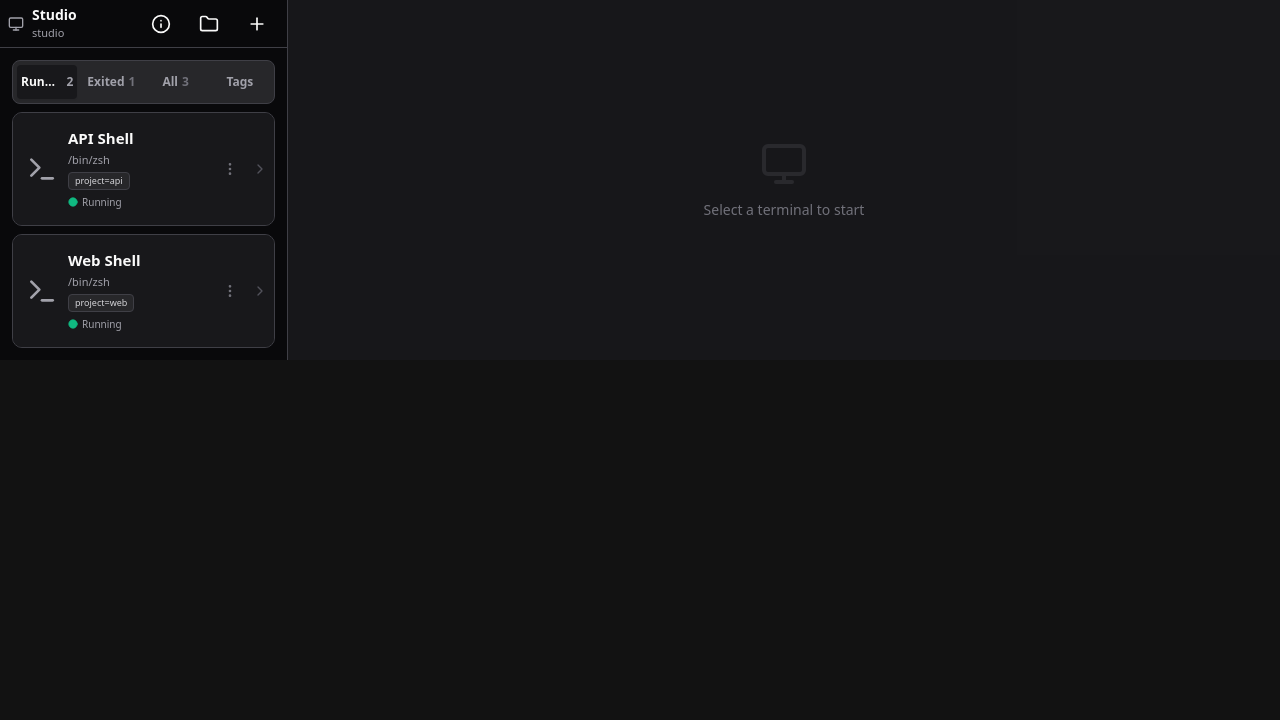
it: MachineWorkspace terminal creation › filters terminal inventory by lifecycle tab and public tag
Expected: the text "API Shell" is shown, [68, 128, 134, 148]
Expected: the text "Web Shell" is shown, [68, 250, 141, 270]
Click the button with test id "anytty-terminal-status-exited" at (111, 82), box [81, 65, 142, 99]
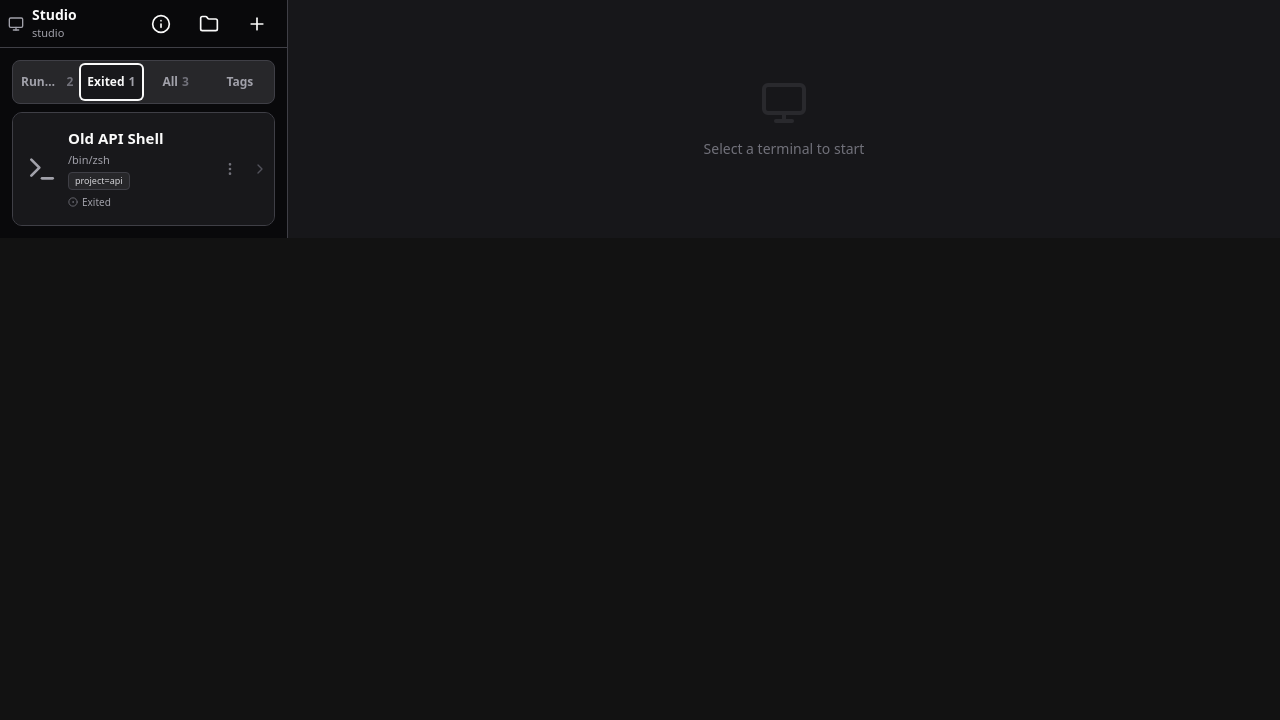
Expected: the text "Old API Shell" is shown, [68, 128, 164, 148]
Click the button with test id "anytty-terminal-status-all" at (176, 82), box [146, 65, 206, 99]
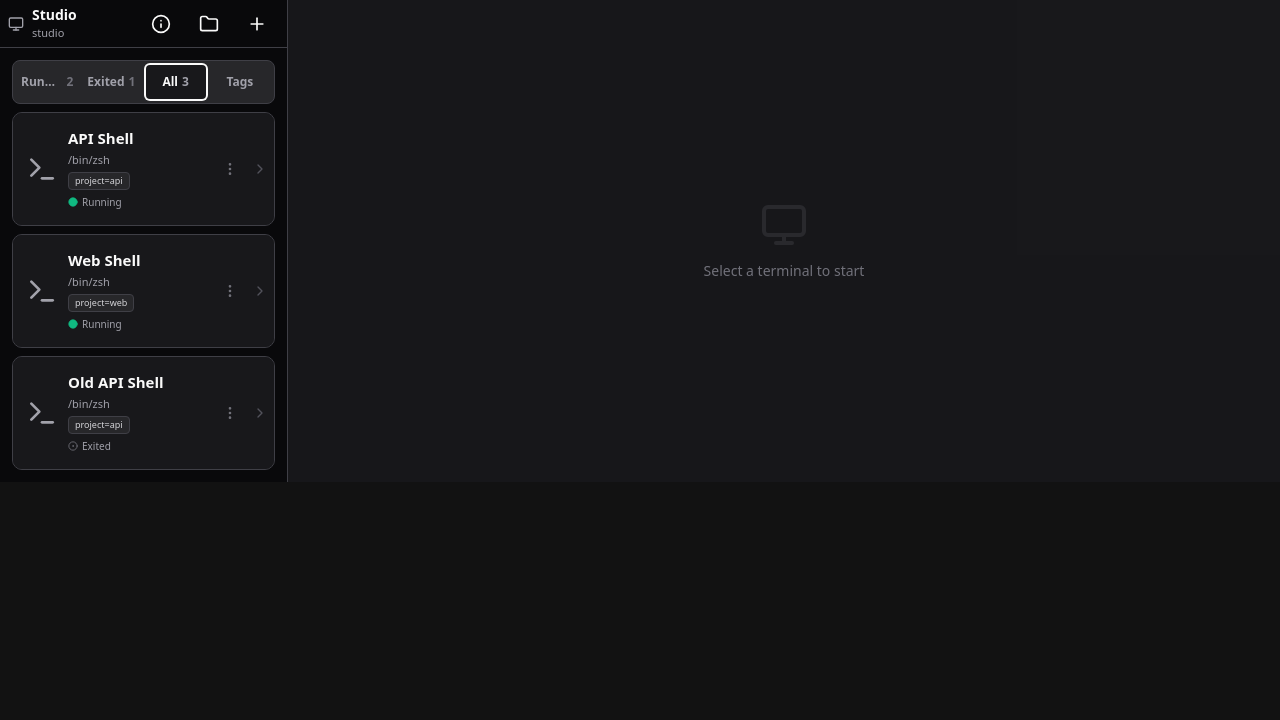
Click the button with test id "anytty-terminal-tag-filter" at (240, 82), box [210, 65, 270, 99]
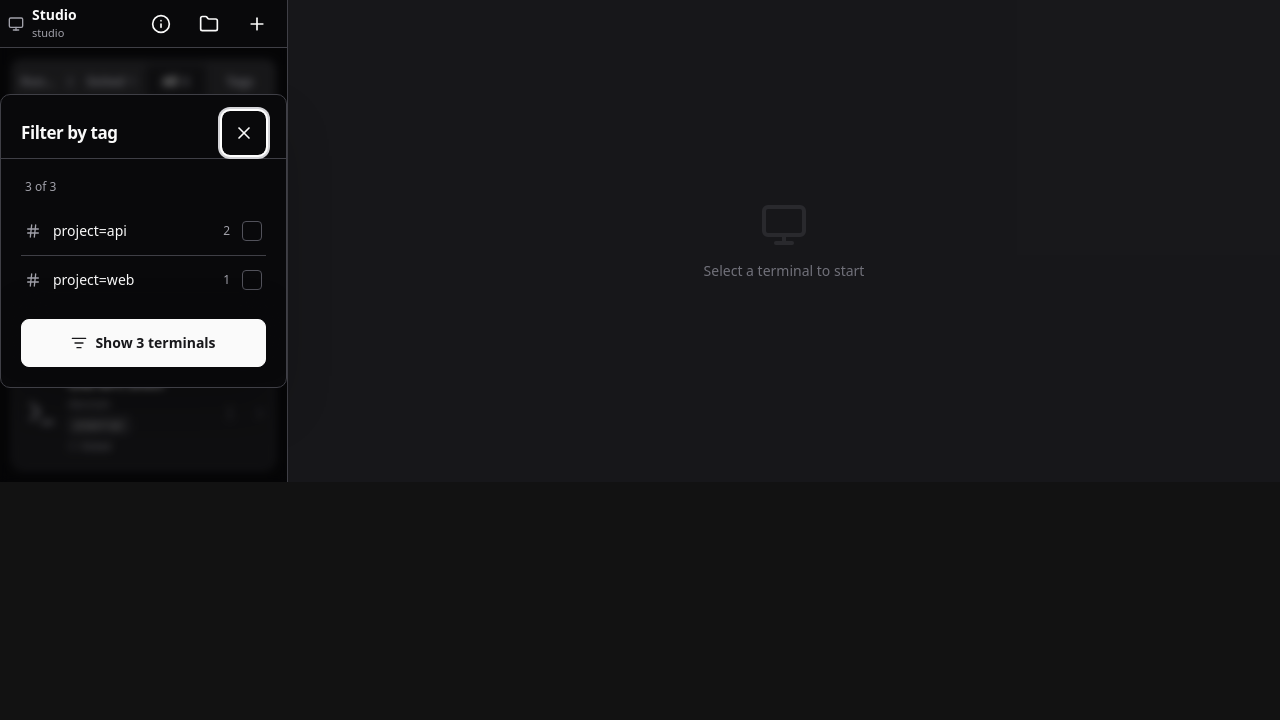
Click the button with test id "anytty-terminal-tag-option-project%3Dapi" at (144, 231), box [21, 207, 266, 255]
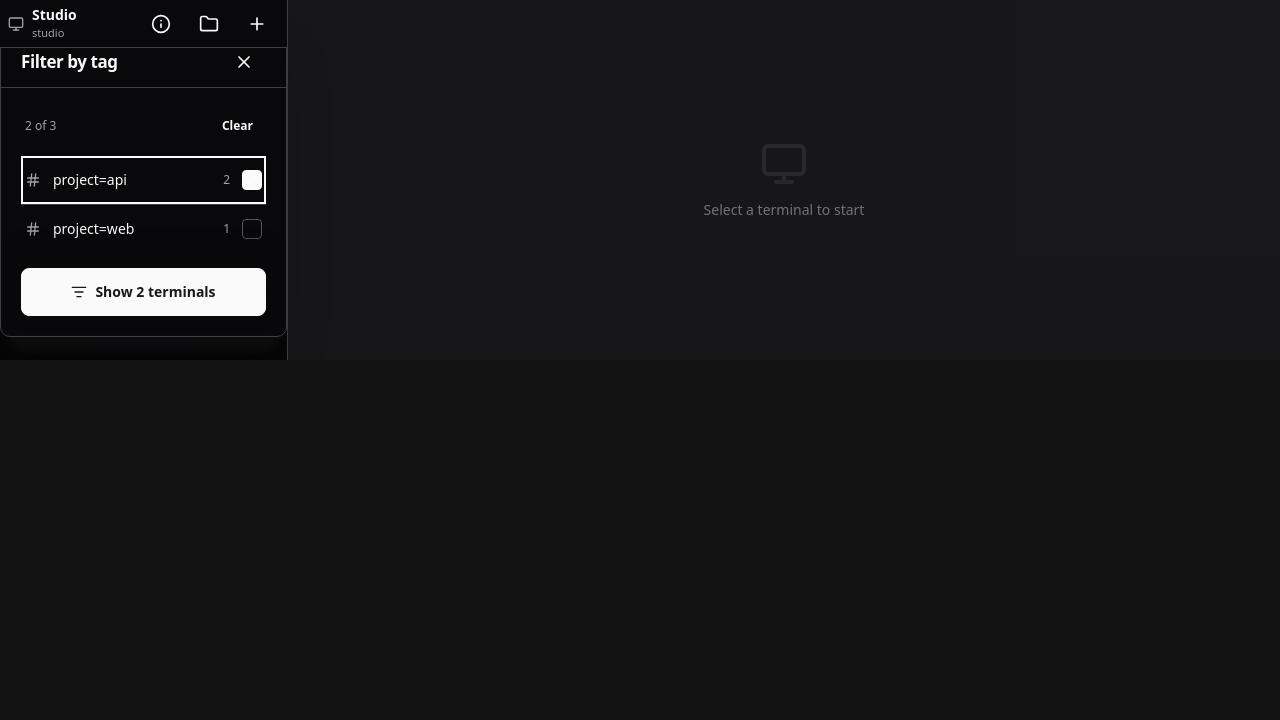
Expected: the text "Old API Shell" is shown, [68, 250, 164, 270]
Expected: the button "Web Shell" is gone
